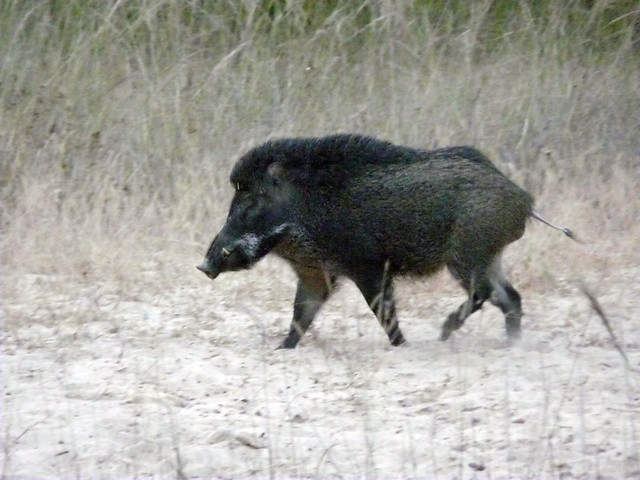wild boar: (189, 135, 584, 370)
